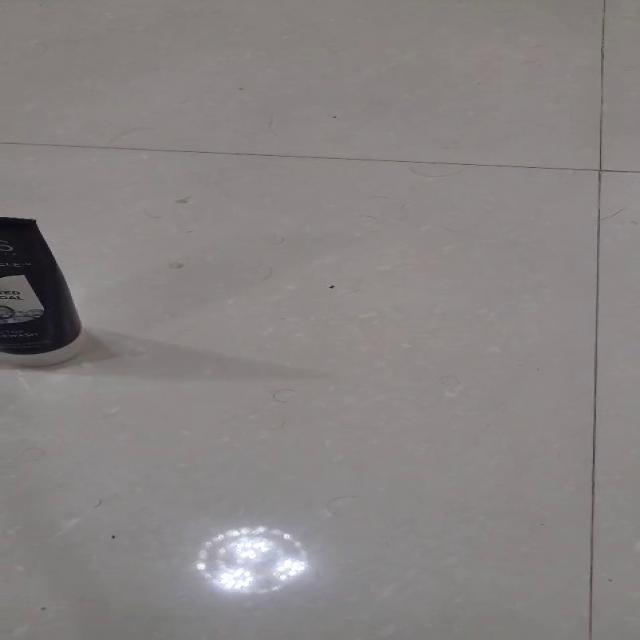plastic: (0, 215, 84, 366)
